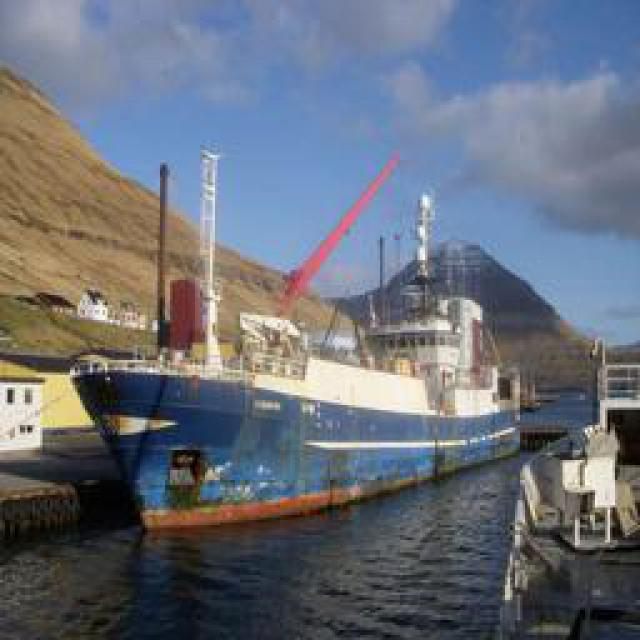Ship: (60, 211, 525, 524)
